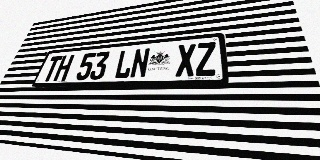3: (89, 51, 110, 80)
5: (75, 52, 97, 80)
H: (53, 54, 75, 81)
L: (113, 49, 135, 79)
N: (129, 48, 151, 78)
T: (41, 56, 63, 82)
X: (175, 43, 196, 77)
Z: (196, 42, 217, 76)
